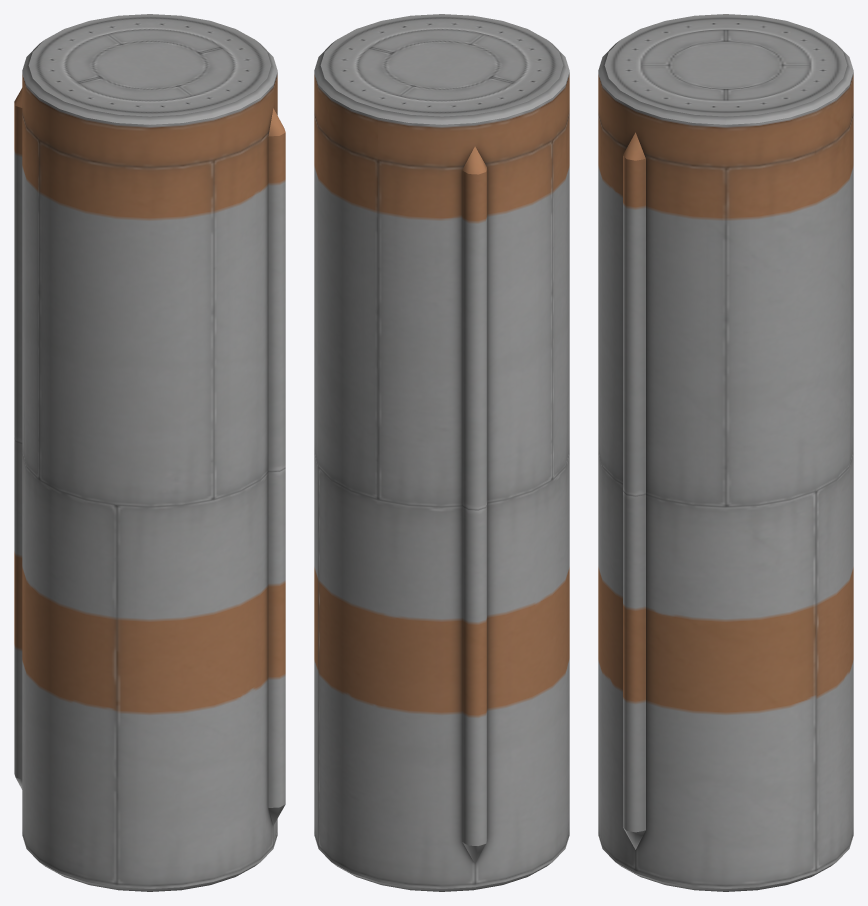
The model's file is CLV_1_LFO_2.obj.
3 renders of one model, left to right at view 1: azimuth 30°, elevation 25°; view 2: azimuth 150°, elevation 25°; view 3: azimuth 270°, elevation 25°, orthographic.
Parts seen in each view (by area): view 1: CLV_1_LFO_2; view 2: CLV_1_LFO_2; view 3: CLV_1_LFO_2.
Part boxes in pixels (bbox=[...]): CLV_1_LFO_2: bbox=[14, 14, 285, 891]; CLV_1_LFO_2: bbox=[314, 14, 569, 891]; CLV_1_LFO_2: bbox=[598, 14, 853, 891].
Size of the model in its own units: 1.25 by 4.18 by 1.25.
